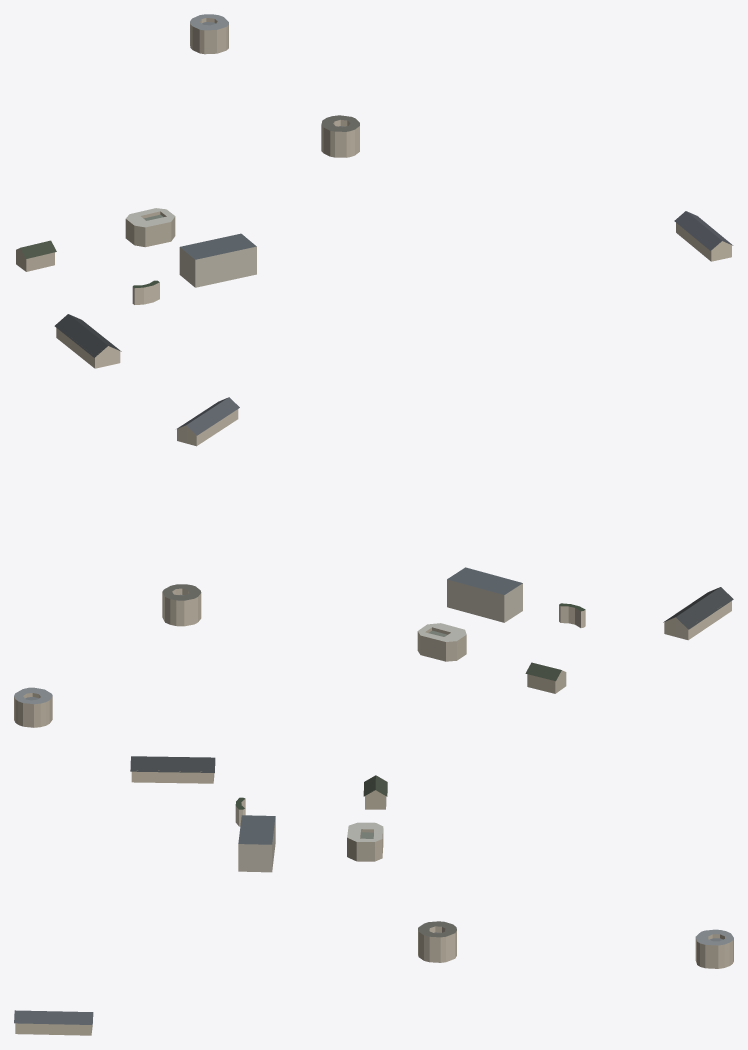
The picture shows the model from 3 angles, top to bottom: view 1: azimuth 30°, elevation 25°; view 2: azimuth 150°, elevation 25°; view 3: azimuth 270°, elevation 25°; orthographic projection.
Visible parts, largest first — view 1: tuile; view 2: tuile; view 3: tuile.
Boxes of the visible parts, bbox=[...] form: tuile: bbox=[16, 14, 733, 368]; tuile: bbox=[14, 397, 733, 727]; tuile: bbox=[14, 756, 733, 1035].
Size of the model in its own units: 174 by 10.24 by 189.
